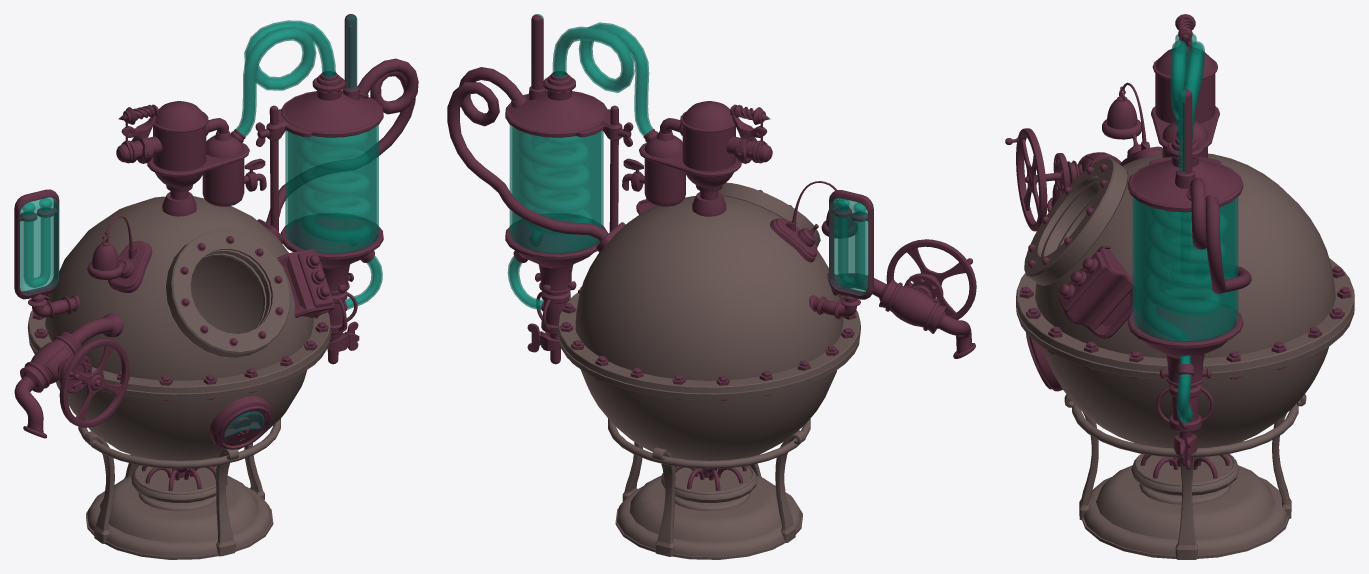
File: cauldron_machine_updated.fbx
3 views of the same model, side by side, from view 1: azimuth 30°, elevation 25°; view 2: azimuth 150°, elevation 25°; view 3: azimuth 270°, elevation 25° (orthographic). The views are drawn at different scales.
Parts seen in each view (by area): view 1: cauldron_machine_body, wheel; view 2: cauldron_machine_body, wheel; view 3: cauldron_machine_body, wheel.
Boxes of the visible parts, x1,y1,x2,y2 form: cauldron_machine_body: [14, 14, 418, 559]; wheel: [59, 338, 129, 427]; cauldron_machine_body: [447, 14, 975, 559]; wheel: [886, 239, 976, 319]; cauldron_machine_body: [1016, 14, 1354, 559]; wheel: [1005, 128, 1070, 231].
Size of the model in its own units: 2.68 by 2.63 by 1.59.
